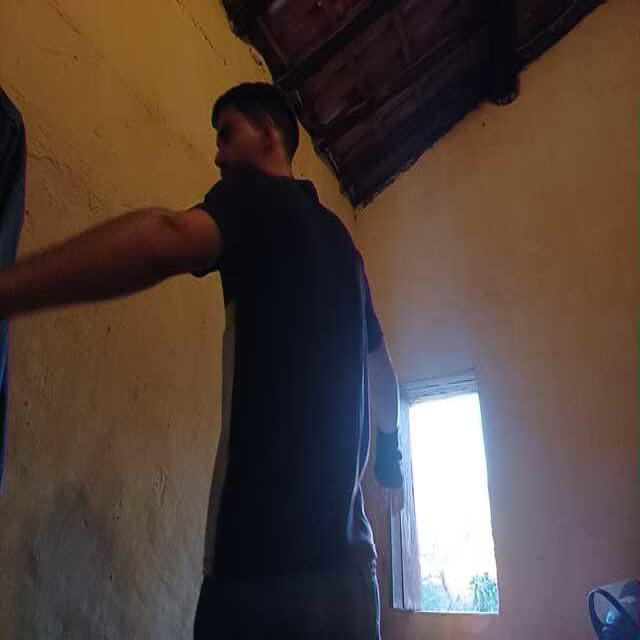capacete: (587, 577, 640, 640)
pessoa: (81, 79, 412, 640)
